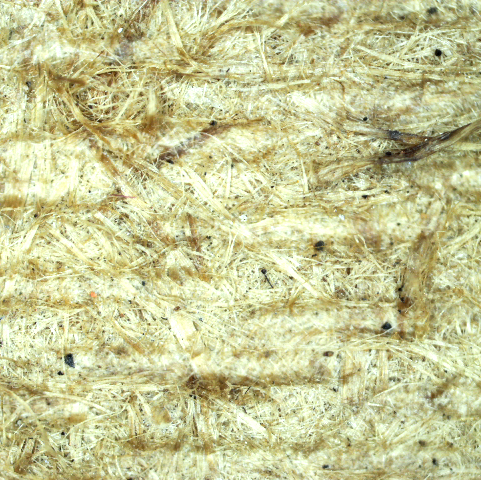ovo: (301, 230, 348, 261)
